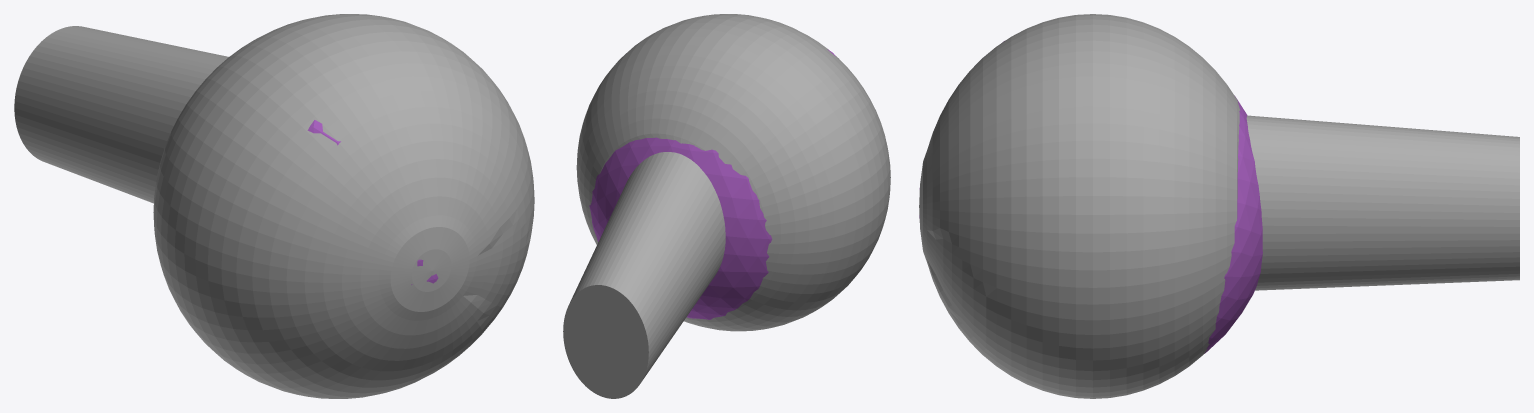
The model's file is G03_A2_ALIGNED_GT.glb.
3 renders of one model, left to right at view 1: azimuth 30°, elevation 25°; view 2: azimuth 150°, elevation 25°; view 3: azimuth 270°, elevation 25°, orthographic. The views are drawn at different scales.
Parts seen in each view (by area): view 1: Independent_GT; view 2: Independent_GT, A2; view 3: Independent_GT, A2.
Boxes of the visible parts, box(x1,y1,x2,y2) form: Independent_GT: box(14, 14, 534, 398); Independent_GT: box(563, 14, 890, 398); A2: box(589, 49, 835, 319); Independent_GT: box(919, 14, 1519, 398); A2: box(919, 41, 1262, 353).
Bounding box in the file's own units: 0.02 × 0.02 × 0.0312.
